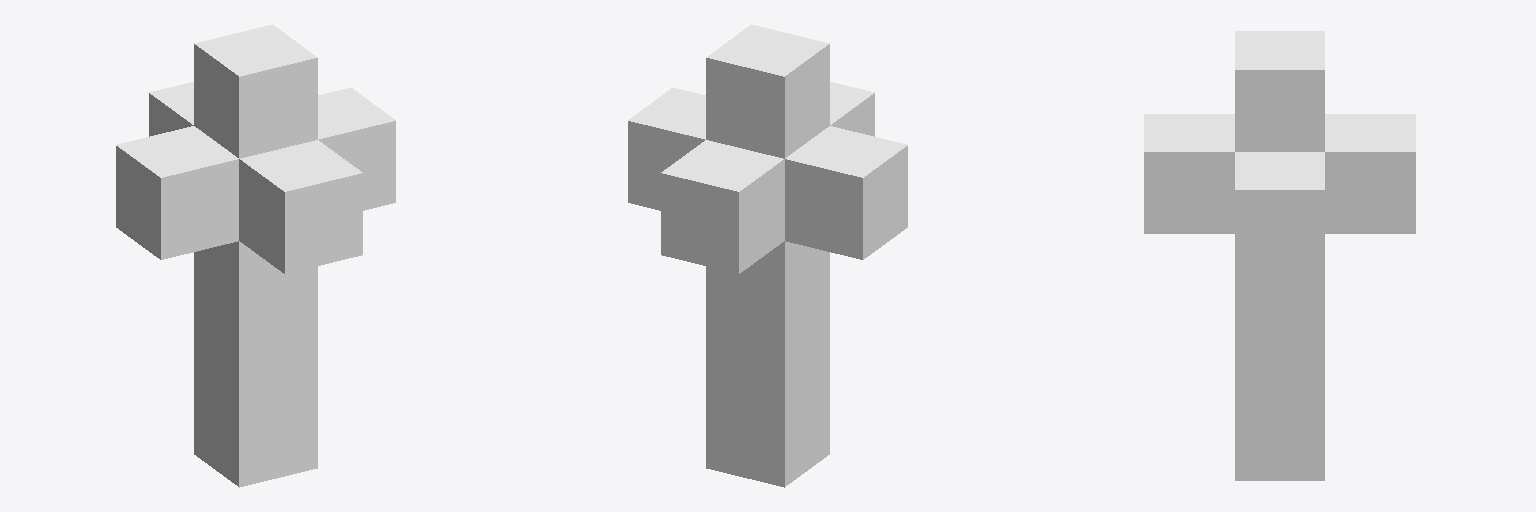
File: flower2.obj
3 renders of one model, left to right at view 1: azimuth 30°, elevation 25°; view 2: azimuth 150°, elevation 25°; view 3: azimuth 270°, elevation 25°, orthographic.
Size of the model in its own units: 3 by 5 by 3.